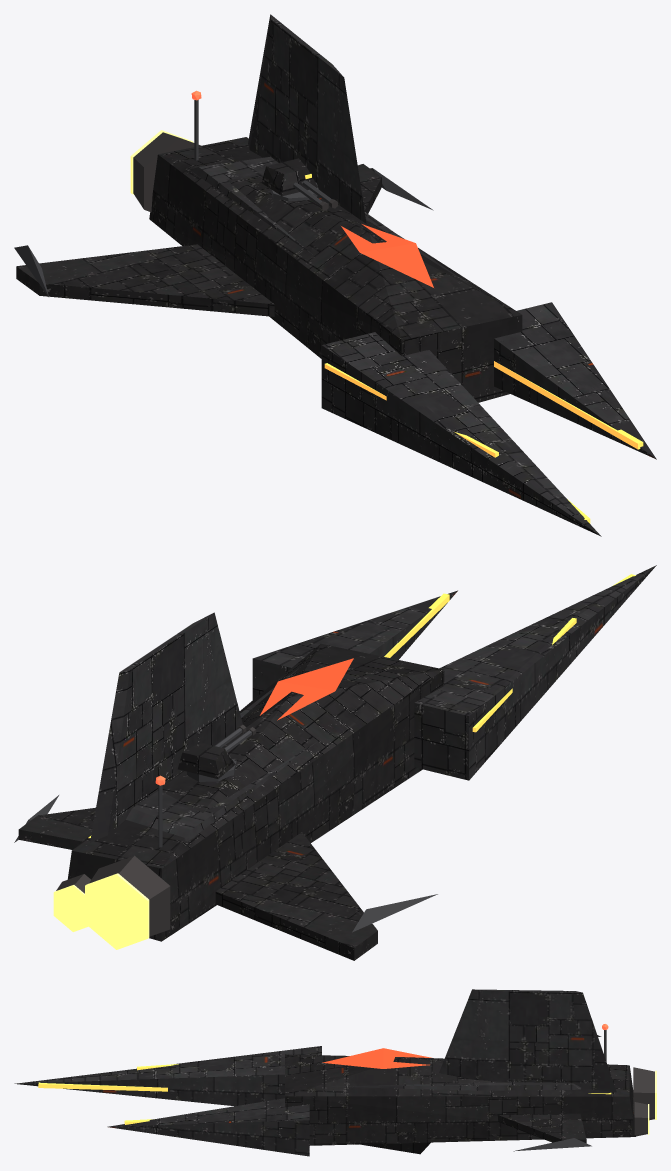
The model's file is lancer.glb.
3 renders of one model, top to bottom at view 1: azimuth 30°, elevation 25°; view 2: azimuth 150°, elevation 25°; view 3: azimuth 270°, elevation 25°, orthographic. The views are drawn at different scales.
Visible parts, largest first — view 1: lancer; view 2: lancer; view 3: lancer.
Part boxes in pixels (<box>): lancer: <box>14,14,656,536</box>; lancer: <box>14,565,656,960</box>; lancer: <box>14,989,656,1156</box>.
Size of the model in its own units: 4.7 by 2.95 by 10.44.
8 materials, 2 textured.
